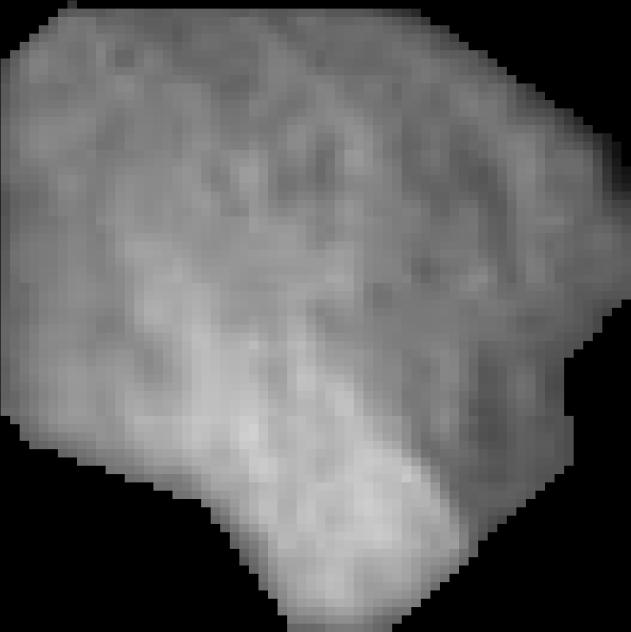tumor_good_chance: (1, 0, 631, 632)
